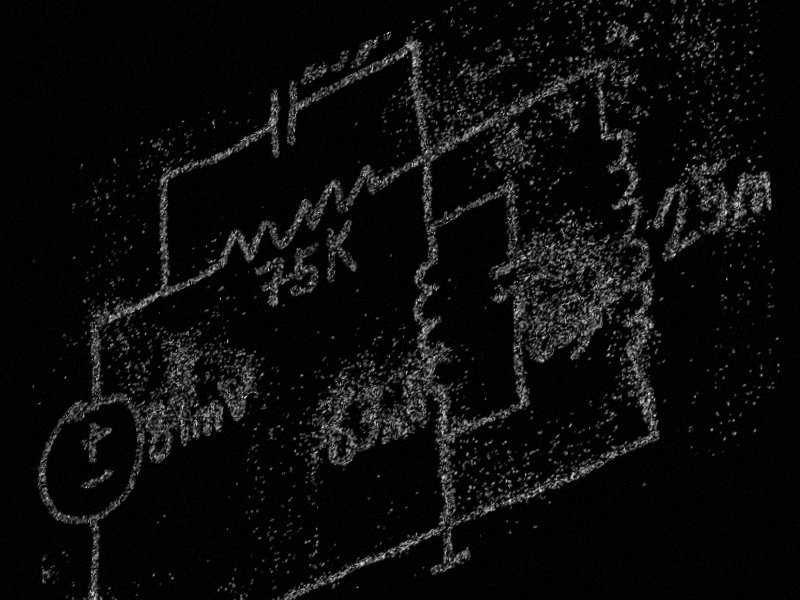2: (651, 170, 702, 272), (295, 57, 331, 93)
3: (353, 381, 388, 458)
5: (692, 151, 732, 246), (288, 236, 324, 306), (554, 291, 581, 351)
6: (321, 380, 362, 476)
7: (247, 246, 296, 327)
8: (140, 395, 178, 477), (525, 293, 560, 370)
9: (324, 46, 356, 80)
F: (591, 275, 617, 335), (381, 22, 413, 44)
H: (402, 384, 429, 439)
V: (221, 361, 261, 428)
k: (319, 209, 363, 292)
m: (728, 161, 772, 234), (175, 392, 227, 452), (378, 409, 409, 447)
u: (575, 301, 597, 357), (353, 34, 384, 69)
